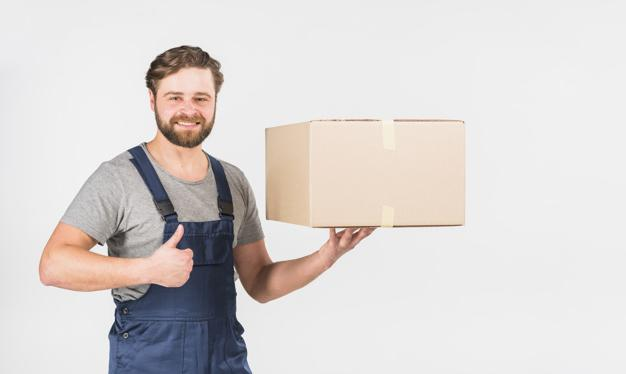thumbsup: (162, 223, 194, 287)
